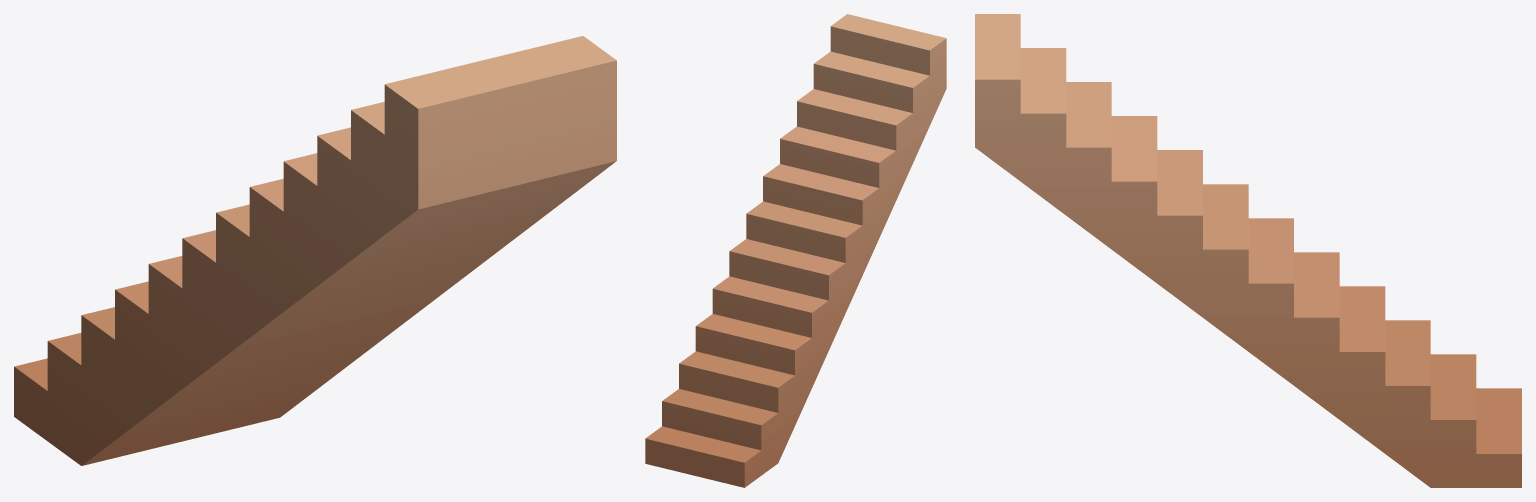
The model's file is kenney-castle-stairs-stone.glb.
3 renders of one model, left to right at view 1: azimuth 30°, elevation 25°; view 2: azimuth 150°, elevation 25°; view 3: azimuth 270°, elevation 25°, orthographic. The views are drawn at different scales.
Visible parts, largest first — view 1: stairs-stone; view 2: stairs-stone; view 3: stairs-stone.
Boxes of the visible parts, <box> form: stairs-stone: <box>14,36,616,465</box>; stairs-stone: <box>645,14,946,487</box>; stairs-stone: <box>975,14,1521,487</box>.
Bounding box in the file's own units: 0.2325 × 0.675 × 0.819.
1 material, 1 textured.
